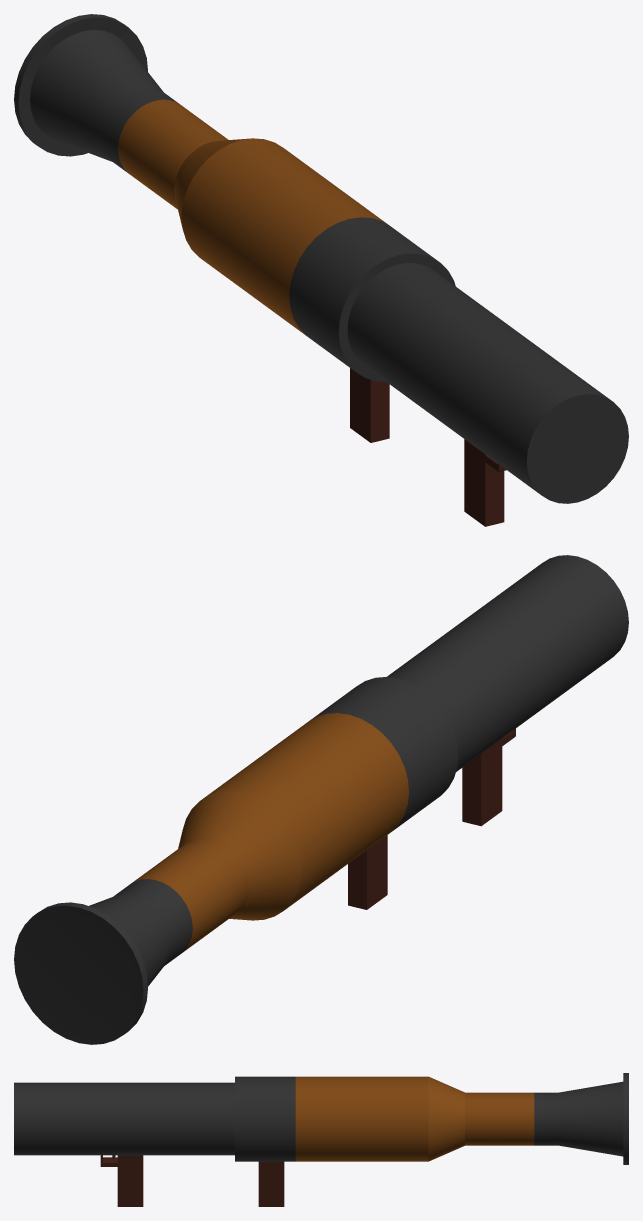
Rendered from RPG without rocket.fbx.
3 views of the same model, one above another, from view 1: azimuth 30°, elevation 25°; view 2: azimuth 150°, elevation 25°; view 3: azimuth 270°, elevation 25° (orthographic). The views are drawn at different scales.
Visible parts, largest first — view 1: Body, grip, grip2; view 2: Body, grip, grip2; view 3: Body, grip, grip2.
Part boxes in pixels (<box>): Body: <box>14,14,628,503</box>; grip: <box>464,439,506,526</box>; grip2: <box>350,368,389,442</box>; Body: <box>14,555,628,1044</box>; grip: <box>462,728,515,826</box>; grip2: <box>348,835,387,909</box>; Body: <box>14,1073,628,1164</box>; grip: <box>100,1155,143,1206</box>; grip2: <box>258,1161,284,1206</box>.
Bounding box in the file's own units: 0.5176 × 3.45 × 0.7834.
